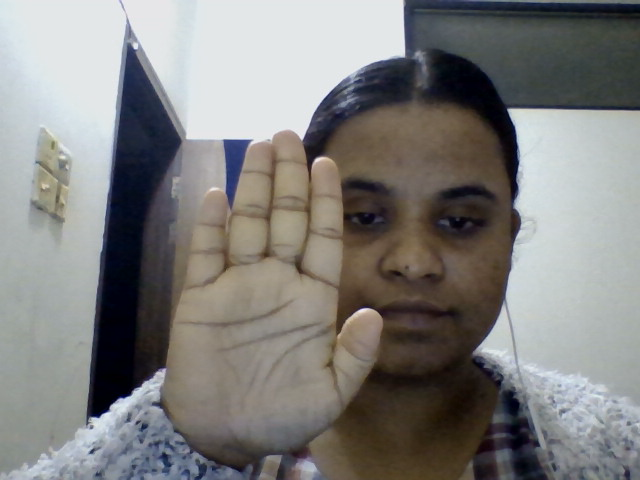hello: (152, 127, 399, 463)
